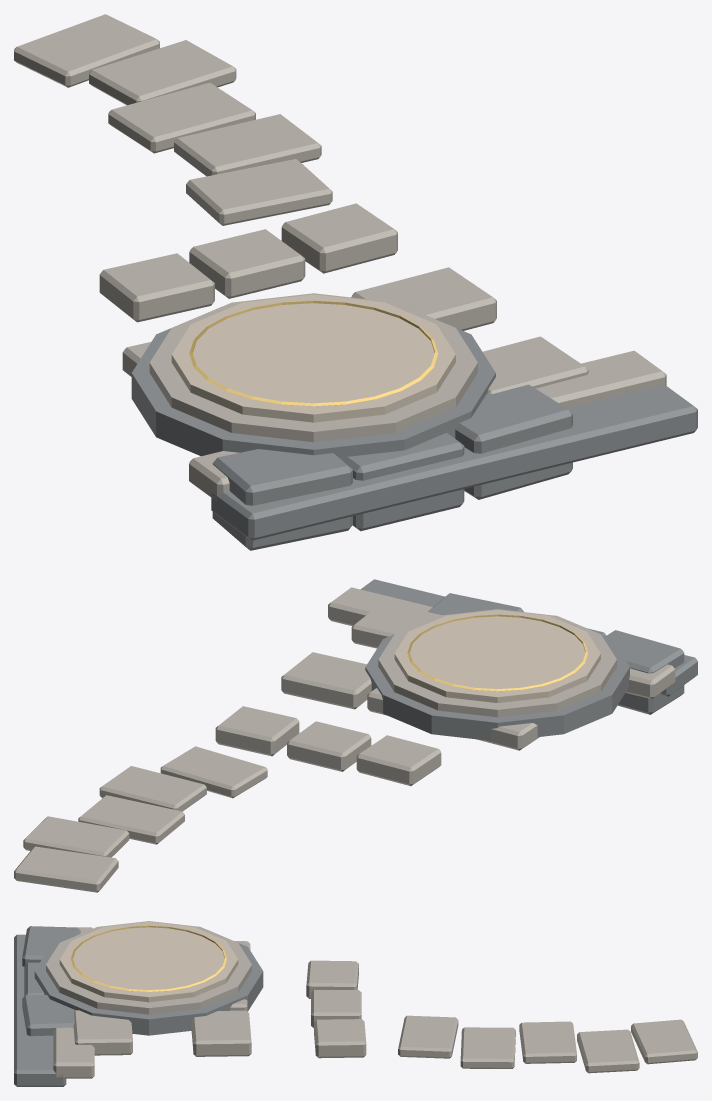
The model's file is MOD_Terrace_StoneKit.fbx.
3 views of the same model, one above another, from view 1: azimuth 30°, elevation 25°; view 2: azimuth 150°, elevation 25°; view 3: azimuth 270°, elevation 25° (orthographic). The views are drawn at different scales.
Parts seen in each view (by area): view 1: REF_HeroStage_Top, STN_ForegroundStep_Low, REF_HeroStage_Mid, REF_HeroStage_Base, REF_ForegroundCliff_Block_0, REF_ForegroundCliff_Block_2, STN_PathSlab_00, STN_PathSlab_04, STN_PathSlab_02, STN_PathSlab_01, STN_PathSlab_03, STN_TerraceTile_06 (+7 smaller); view 2: REF_HeroStage_Top, REF_HeroStage_Base, REF_HeroStage_Mid, STN_TerraceTile_05, STN_PathSlab_04, STN_PathSlab_00, STN_PathSlab_02, STN_TerraceTile_06, STN_PathSlab_01, STN_TerraceTile_08, STN_ForegroundStep_High, STN_TerraceTile_07 (+7 smaller); view 3: REF_HeroStage_Top, REF_HeroStage_Mid, REF_HeroStage_Base, STN_ForegroundStep_Low, STN_TerraceTile_05, STN_PathSlab_04, STN_PathSlab_03, STN_PathSlab_00, STN_PathSlab_02, STN_PathSlab_01, STN_TerraceTile_02, STN_TerraceTile_08 (+7 smaller).
Boxes of the visible parts, bbox=[...] form: REF_HeroStage_Top: bbox=[171, 294, 455, 422]; STN_ForegroundStep_Low: bbox=[211, 385, 697, 540]; REF_HeroStage_Mid: bbox=[149, 293, 477, 442]; REF_HeroStage_Base: bbox=[131, 311, 495, 460]; REF_ForegroundCliff_Block_0: bbox=[212, 449, 352, 550]; REF_ForegroundCliff_Block_2: bbox=[455, 384, 572, 499]; STN_PathSlab_00: bbox=[186, 159, 332, 225]; STN_PathSlab_04: bbox=[14, 14, 159, 87]; STN_PathSlab_02: bbox=[108, 82, 255, 153]; STN_PathSlab_01: bbox=[174, 114, 321, 176]; STN_PathSlab_03: bbox=[89, 40, 236, 105]; STN_TerraceTile_06: bbox=[99, 253, 214, 322]; REF_HeroStage_Top: bbox=[394, 610, 600, 702]; REF_HeroStage_Base: bbox=[365, 634, 629, 740]; REF_HeroStage_Mid: bbox=[378, 609, 616, 717]; STN_TerraceTile_05: bbox=[281, 652, 371, 709]; STN_PathSlab_04: bbox=[14, 846, 118, 892]; STN_PathSlab_00: bbox=[160, 746, 267, 798]; STN_PathSlab_02: bbox=[78, 795, 184, 844]; STN_TerraceTile_06: bbox=[356, 735, 441, 786]; STN_PathSlab_01: bbox=[99, 766, 206, 811]; STN_TerraceTile_08: bbox=[215, 706, 299, 756]; STN_ForegroundStep_High: bbox=[328, 587, 675, 699]; STN_TerraceTile_07: bbox=[287, 721, 371, 771]; REF_HeroStage_Top: bbox=[59, 922, 238, 1002]; REF_HeroStage_Mid: bbox=[46, 921, 251, 1014]; REF_HeroStage_Base: bbox=[34, 943, 263, 1035]; STN_ForegroundStep_Low: bbox=[14, 934, 66, 1086]; STN_TerraceTile_05: bbox=[191, 1010, 251, 1056]; STN_PathSlab_04: bbox=[631, 1019, 697, 1064]; STN_PathSlab_03: bbox=[577, 1029, 639, 1073]; STN_PathSlab_00: bbox=[398, 1015, 458, 1058]; STN_PathSlab_02: bbox=[519, 1021, 576, 1063]; STN_PathSlab_01: bbox=[460, 1027, 515, 1068]; STN_TerraceTile_02: bbox=[73, 1010, 132, 1055]; STN_TerraceTile_08: bbox=[314, 1019, 366, 1058].
Size of the model in its own units: 8.7 by 1.79 by 18.24.
